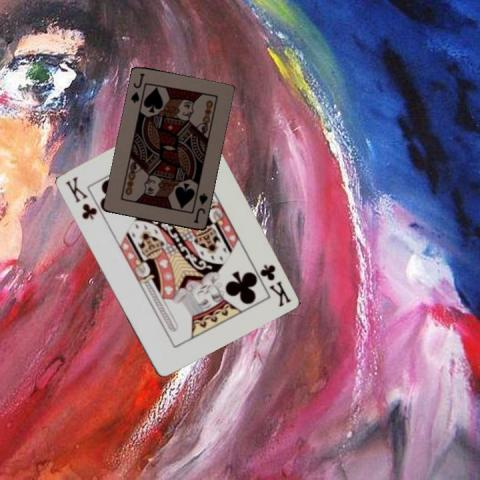Js: (128, 70, 147, 105), (191, 190, 209, 225)
Kc: (62, 174, 98, 222), (256, 261, 292, 308)
